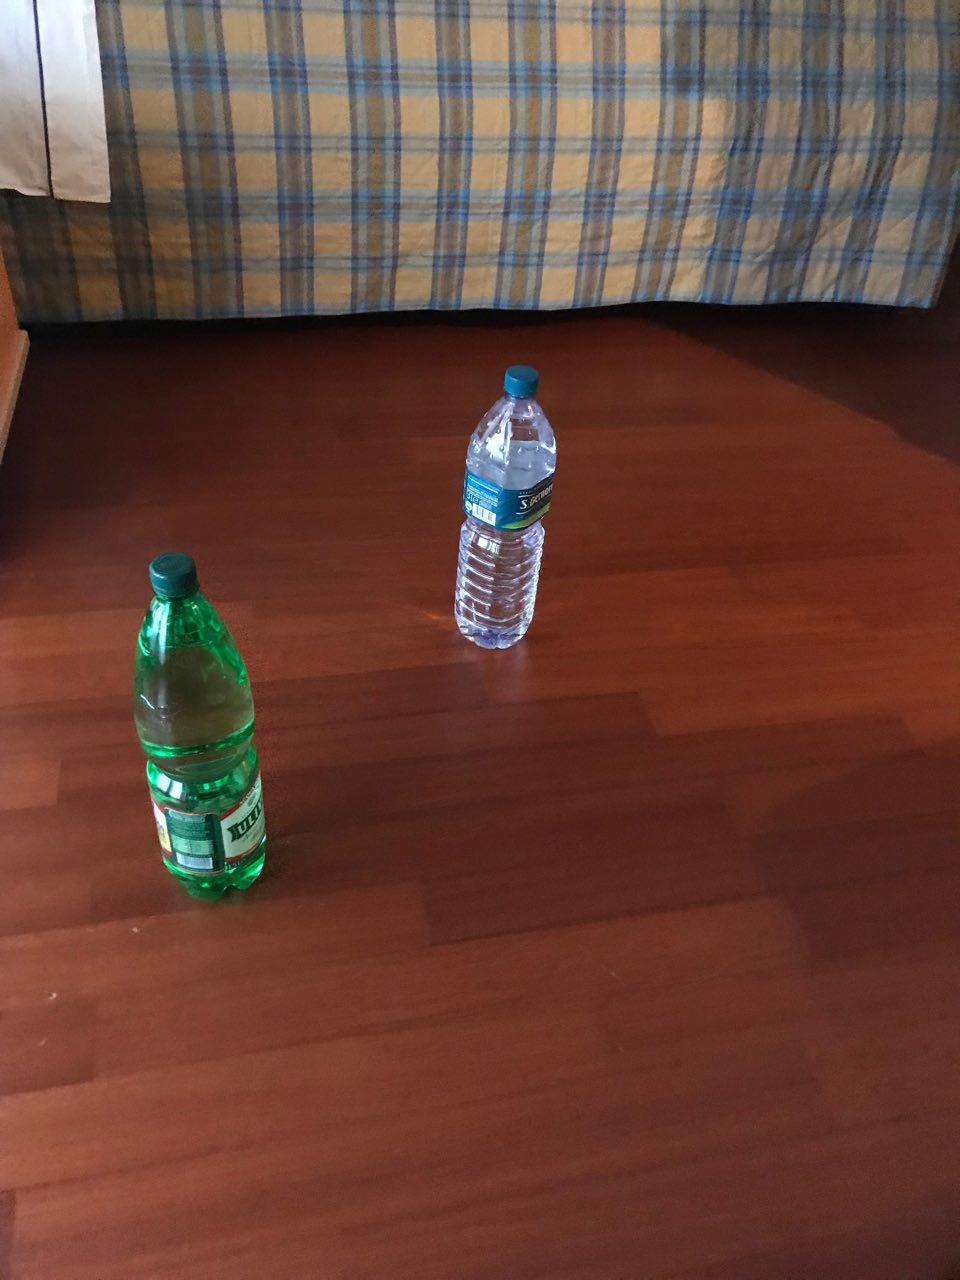san_bernardo: (453, 364, 557, 650)
